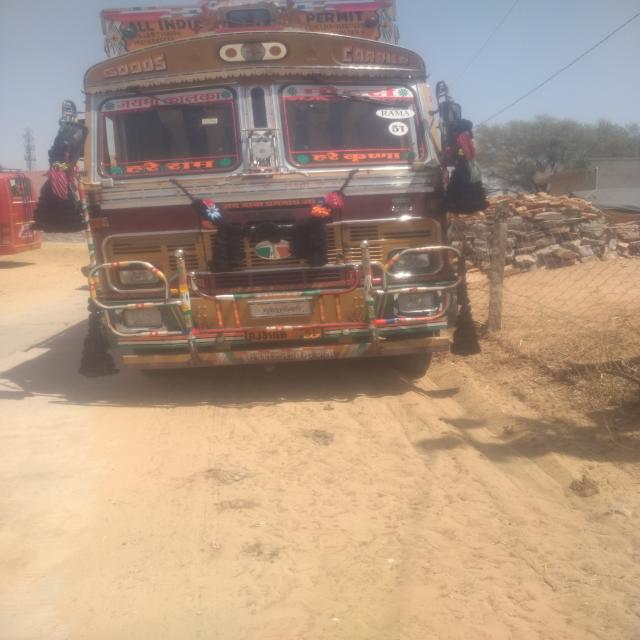Truck: (80, 0, 480, 369)
